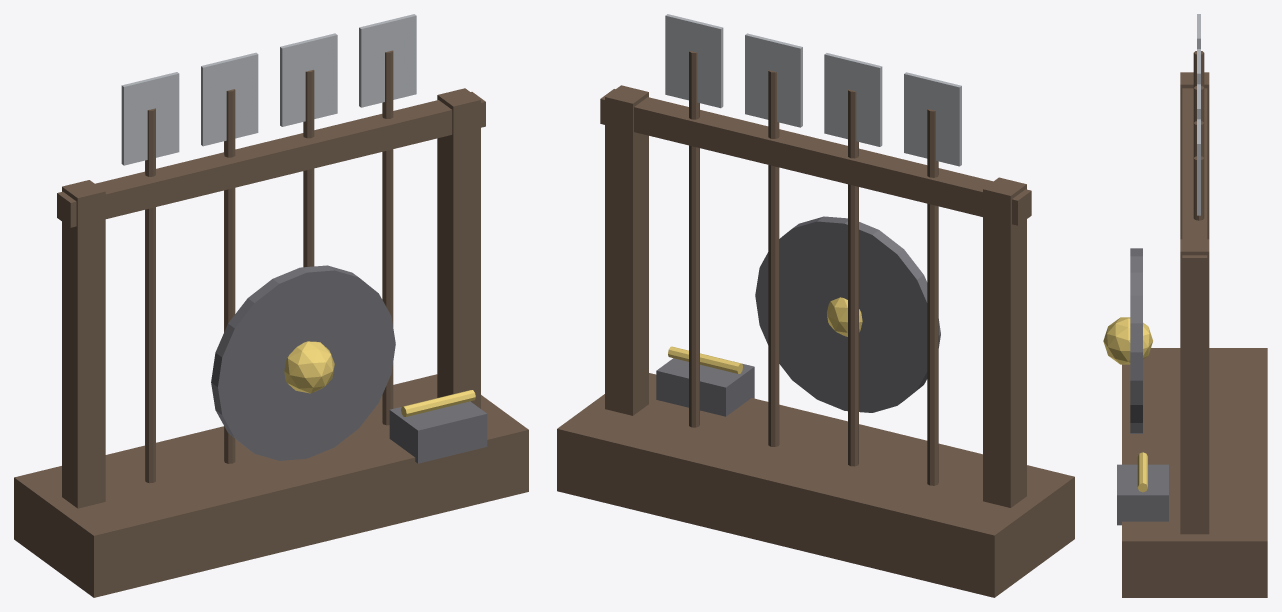
The model's file is barracks_armory.glb.
3 renders of one model, left to right at view 1: azimuth 30°, elevation 25°; view 2: azimuth 150°, elevation 25°; view 3: azimuth 270°, elevation 25°, orthographic. The views are drawn at different scales.
Parts seen in each view (by area): view 1: Cube, Cylinder.004, Cube.003, Cube.001, Cube.002, ArmoryKeyChest, Cube.004, Cube.007, Cube.005, Cube.006, Cylinder, Cylinder.003 (+4 smaller); view 2: Cube, Cylinder.004, Cube.003, Cube.001, Cube.002, Cube.005, Cube.007, Cube.004, Cube.006, Cylinder, Cylinder.002, Cylinder.001 (+4 smaller); view 3: Cube, Cube.002, Cube.003, ArmoryKeyChest, Cylinder.004, Icosphere, Cube.001, Cylinder.003, ArmoryKey, Cube.007, Cylinder.001, Cylinder.002 (+1 smaller).
Part boxes in pixels (x1,y1,x2,y2): Cube: (14,374,528,597); Cylinder.004: (211,265,395,460); Cube.003: (57,92,485,227); Cube.001: (62,180,105,508); Cube.002: (437,88,480,408); ArmoryKeyChest: (389,401,487,463); Cube.004: (121,72,179,165); Cube.007: (359,14,416,107); Cube.005: (201,52,258,146); Cube.006: (280,33,337,126); Cylinder: (145,108,155,483); Cylinder.003: (382,50,393,425); Cube: (557,373,1074,597); Cylinder.004: (755,216,940,412); Cube.003: (600,89,1031,225); Cube.001: (983,177,1026,507); Cube.002: (605,85,648,415); Cube.005: (824,53,882,146); Cube.007: (665,14,723,108); Cube.004: (904,72,961,166); Cube.006: (745,33,802,127); Cylinder: (927,109,938,485); Cylinder.002: (768,70,779,446); Cylinder.001: (848,89,858,466); Cube: (1122,348,1267,597); Cube.002: (1180,239,1209,534); Cube.003: (1182,88,1207,280); ArmoryKeyChest: (1117,464,1168,525); Cylinder.004: (1130,248,1142,433); Icosphere: (1103,317,1152,364); Cube.001: (1180,72,1209,239); Cylinder.003: (1193,156,1204,220); ArmoryKey: (1137,452,1147,492); Cube.007: (1197,119,1200,215); Cylinder.001: (1193,86,1204,122); Cylinder.002: (1193,121,1204,157).
Size of the model in its own units: 2.2 by 2.24 by 0.79.
